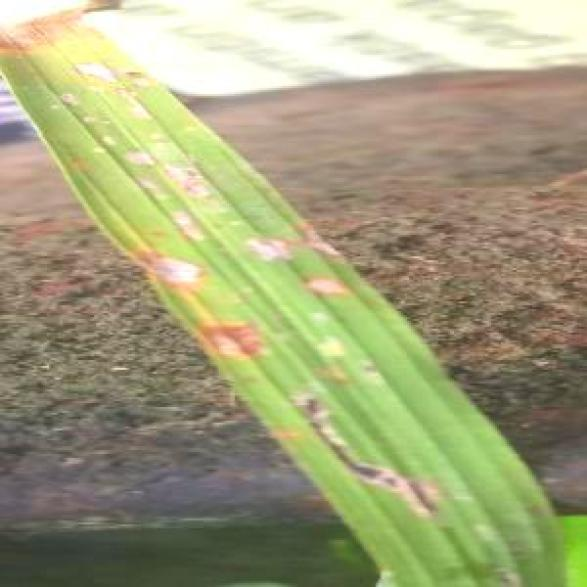Leaf_smut: (272, 374, 464, 520), (219, 203, 366, 274), (125, 225, 217, 307), (188, 297, 276, 358), (276, 260, 350, 309), (61, 39, 123, 94), (157, 184, 210, 243), (123, 168, 178, 210), (113, 135, 160, 174), (114, 84, 159, 118)
